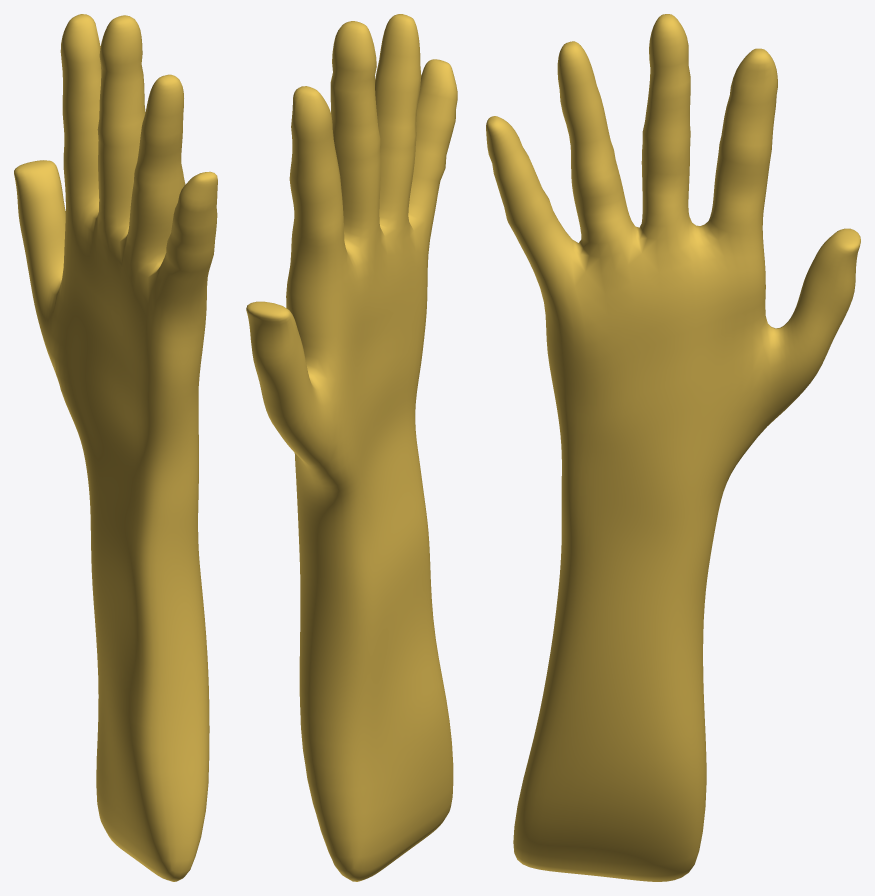
Rendered from LeftHandBlue.fbx.
3 views of the same model, side by side, from view 1: azimuth 30°, elevation 25°; view 2: azimuth 150°, elevation 25°; view 3: azimuth 270°, elevation 25° (orthographic). The views are drawn at different scales.
Parts seen in each view (by area): view 1: LeftHand; view 2: LeftHand; view 3: LeftHand.
Part boxes in pixels (x1=…): LeftHand: x1=14, y1=14, x2=217, y2=881; LeftHand: x1=246, y1=14, x2=457, y2=881; LeftHand: x1=486, y1=14, x2=860, y2=881.
Bounding box in the file's own units: 67.23 × 574 × 225.
